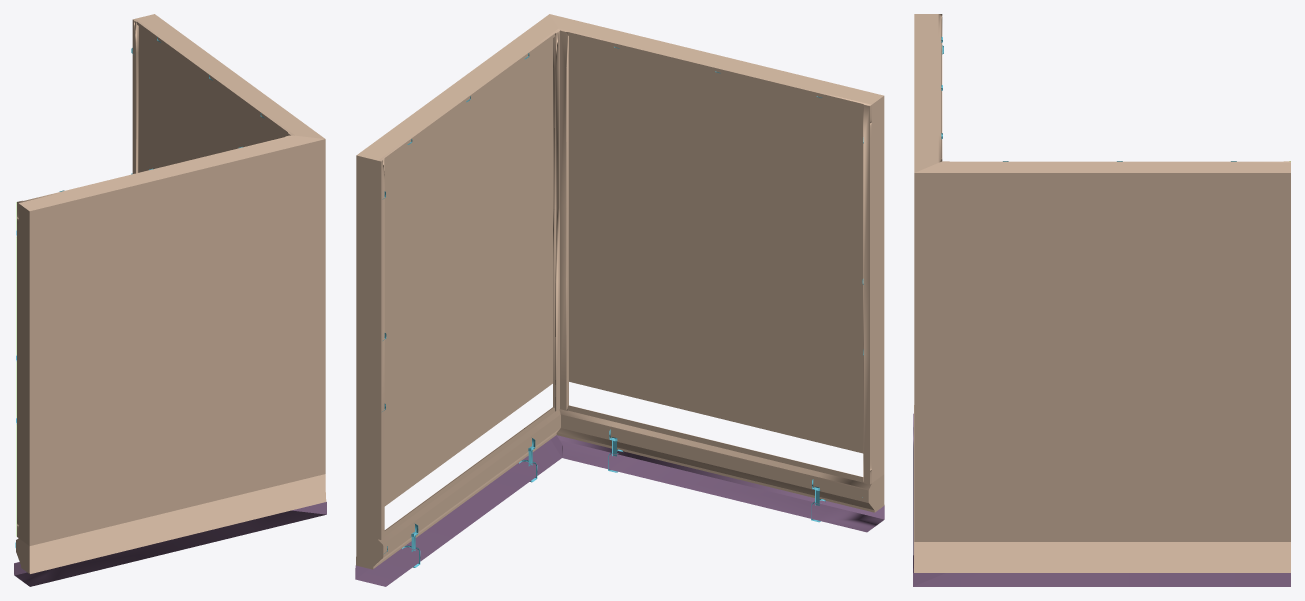
Rendered from roomslg_b_wall_corner_in_06x06x08_a.glb.
3 views of the same model, side by side, from view 1: azimuth 30°, elevation 25°; view 2: azimuth 150°, elevation 25°; view 3: azimuth 270°, elevation 25° (orthographic). The views are drawn at different scales.
Bounding box in the file's own units: 6.63 × 8 × 6.63.
